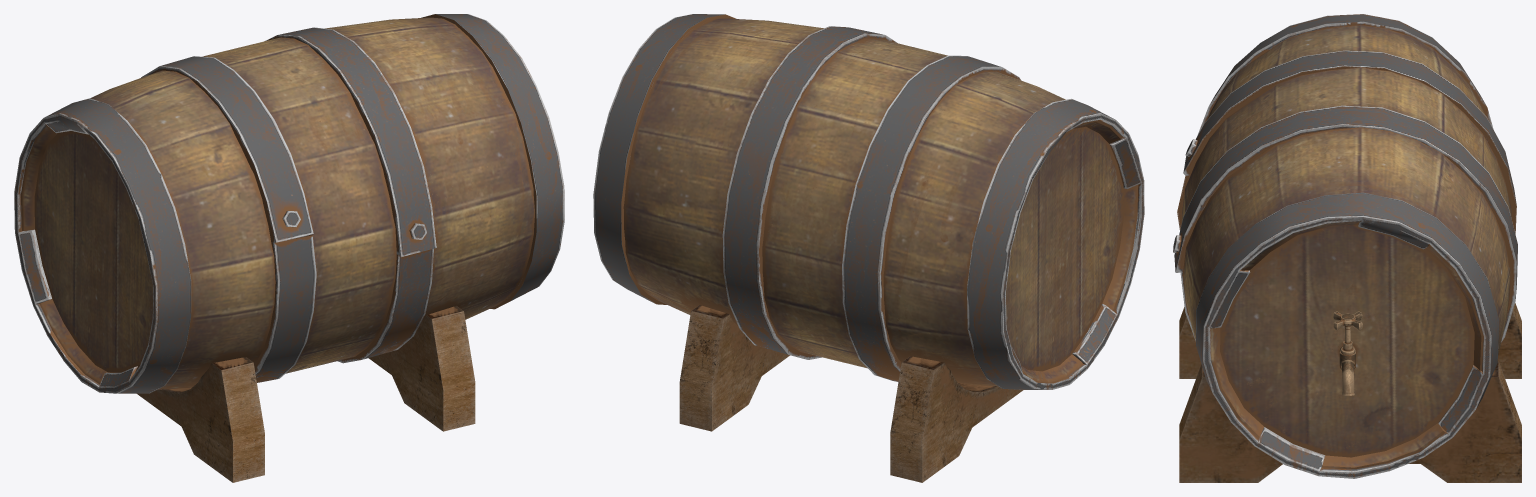
The model's file is beer_barrel.glb.
The picture shows the model from 3 angles, left to right: view 1: azimuth 30°, elevation 25°; view 2: azimuth 150°, elevation 25°; view 3: azimuth 270°, elevation 25°; orthographic projection.
Visible parts, largest first — view 1: Barrel; view 2: Barrel; view 3: Barrel.
Part boxes in pixels (x1,y1,x2,y2): Barrel: (14, 14, 564, 482); Barrel: (593, 14, 1144, 482); Barrel: (1173, 14, 1521, 482).
Bounding box in the file's own units: 0.6139 × 0.4284 × 0.3993.
Materials: 1 (1 with a texture image).
